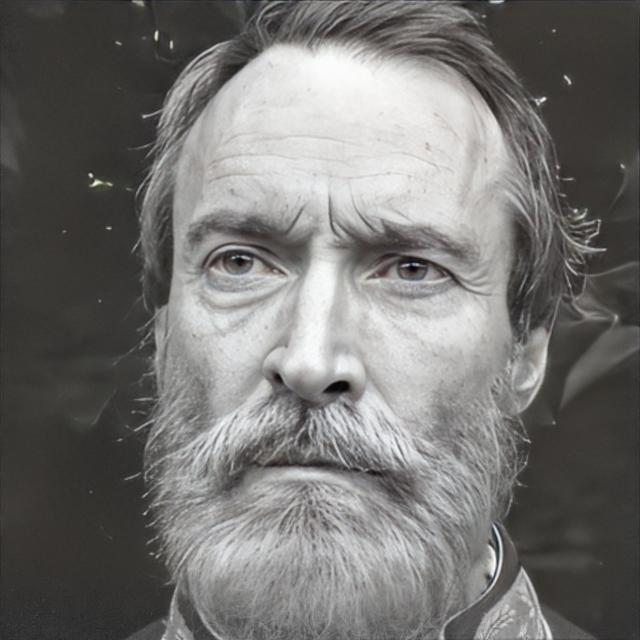anger: (167, 109, 518, 558)
